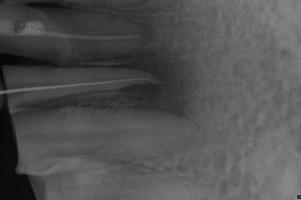Furcation Involvement: (117, 52, 199, 120)
